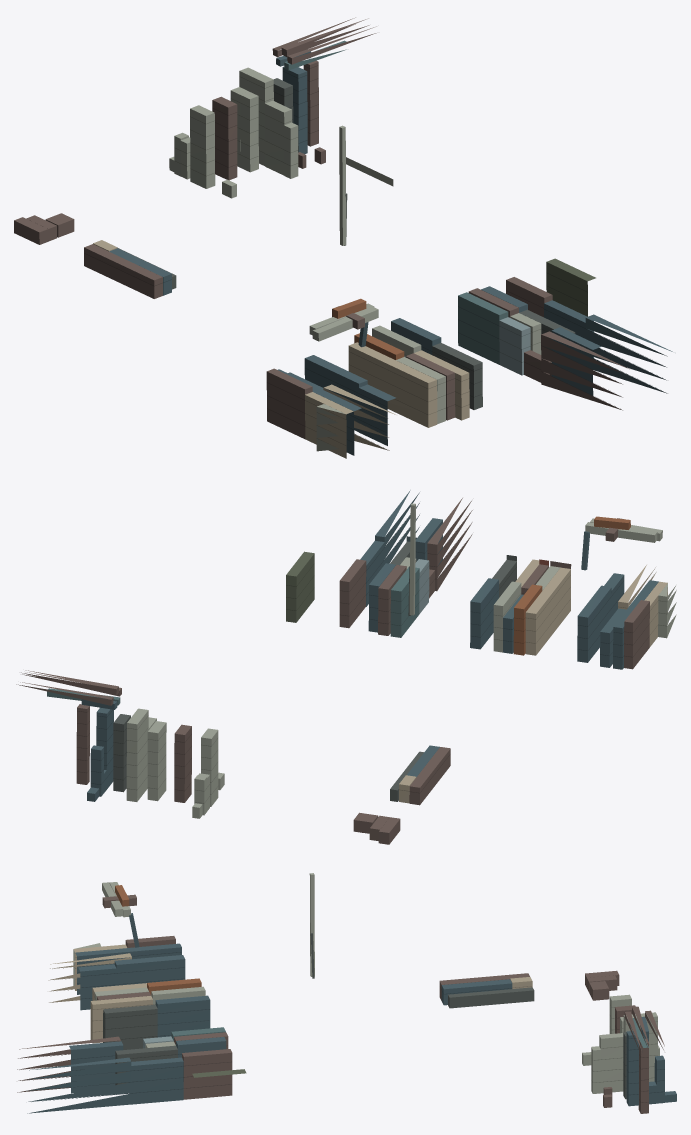
Rendered from terminal-30---118_-18.glb.
The picture shows the model from 3 angles, top to bottom: view 1: azimuth 30°, elevation 25°; view 2: azimuth 150°, elevation 25°; view 3: azimuth 270°, elevation 25°; orthographic projection. The views are drawn at different scales.
Parts seen in each view (by area): view 1: measured-industrial; view 2: measured-industrial; view 3: measured-industrial.
Boxes of the visible parts, bbox=[...] form: measured-industrial: bbox=[14, 17, 672, 458]; measured-industrial: bbox=[16, 490, 676, 844]; measured-industrial: bbox=[17, 873, 676, 1113].
Bounding box in the file's own units: 92.77 × 45.82 × 161.
